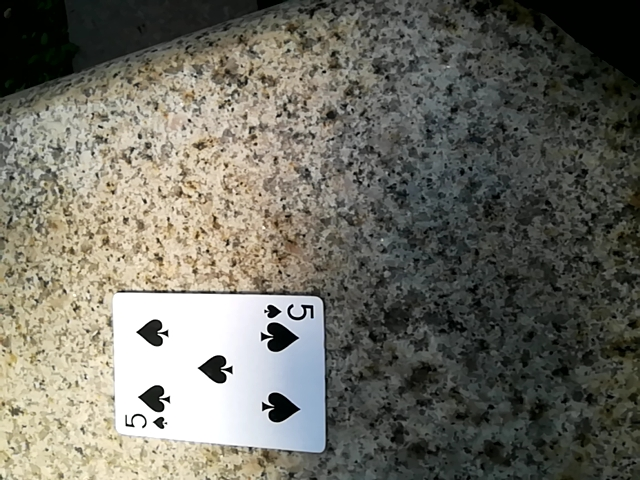ht 5: (101, 288, 324, 456)
